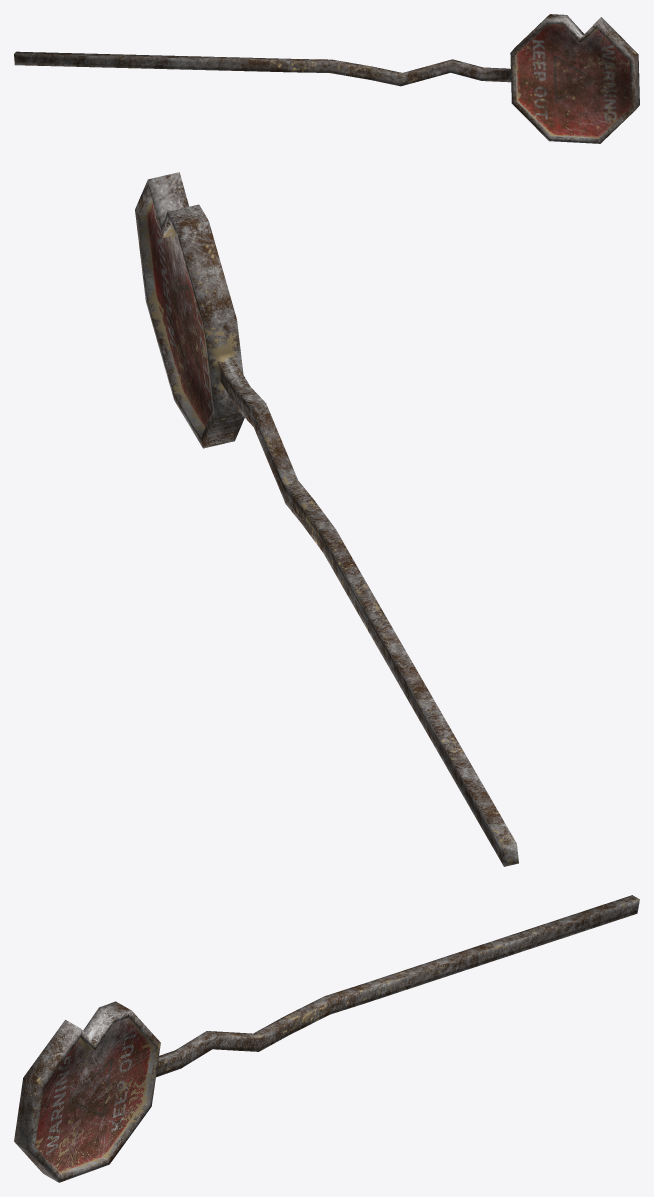
The model's file is Anim_idle_senyal_objetos.0021.obj.
The picture shows the model from 3 angles, top to bottom: view 1: azimuth 30°, elevation 25°; view 2: azimuth 150°, elevation 25°; view 3: azimuth 270°, elevation 25°; orthographic projection. The views are drawn at different scales.
Size of the model in its own units: 9.17 by 2.57 by 8.91.
